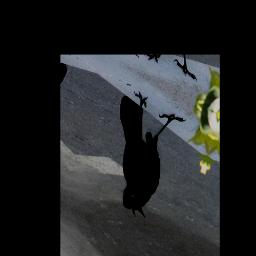Crow: (94, 85, 188, 228)
